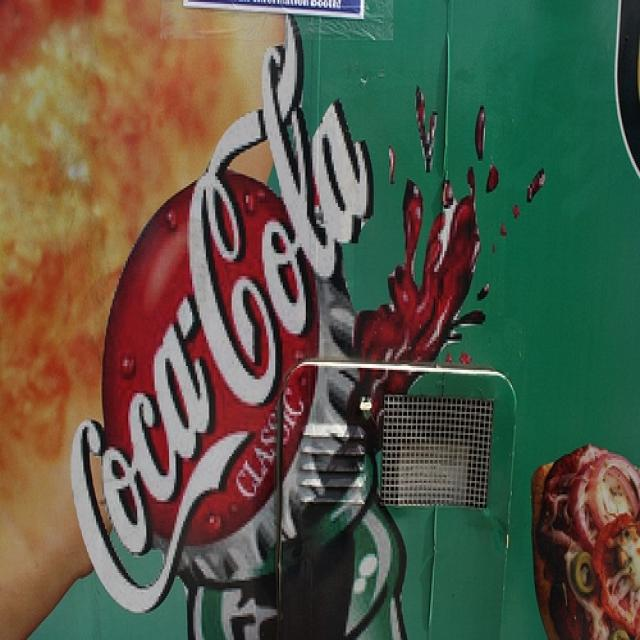cocacola: (65, 7, 389, 628)
